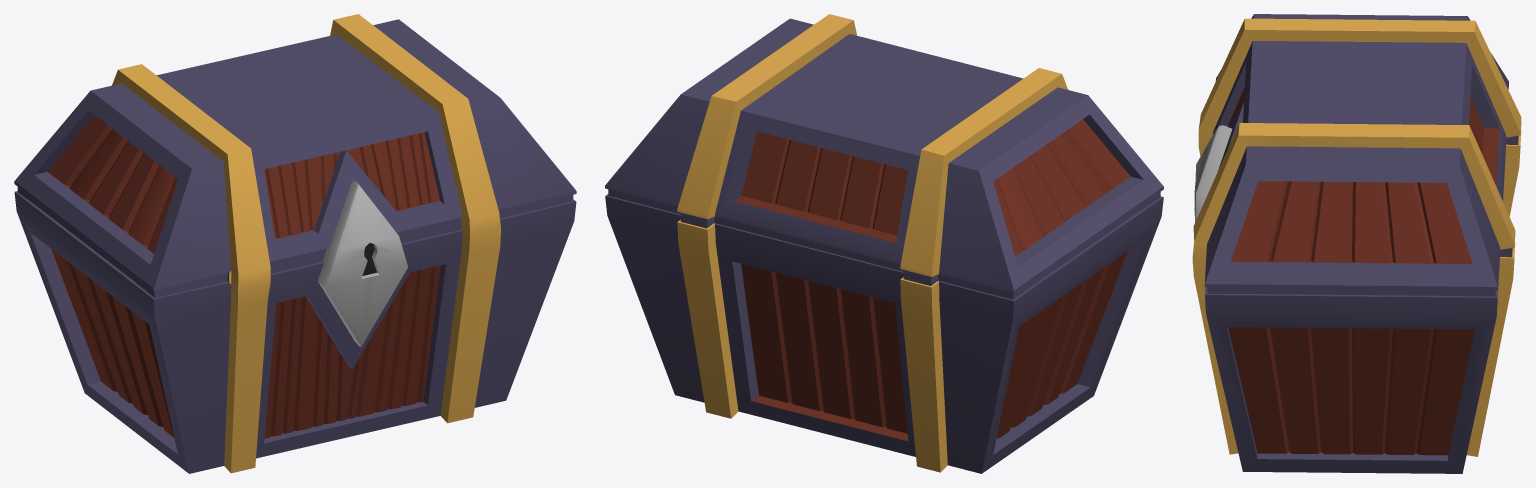
The model's file is Chest2.fbx.
The picture shows the model from 3 angles, left to right: view 1: azimuth 30°, elevation 25°; view 2: azimuth 150°, elevation 25°; view 3: azimuth 270°, elevation 25°; orthographic projection.
Visible parts, largest first — view 1: Purple chest.003; view 2: Purple chest.003; view 3: Purple chest.003.
Boxes of the visible parts, x1,y1,x2,y2 form: Purple chest.003: (14,14,576,473); Purple chest.003: (605,14,1163,473); Purple chest.003: (1192,14,1521,473).
Bounding box in the file's own units: 149 × 106 × 99.39.
